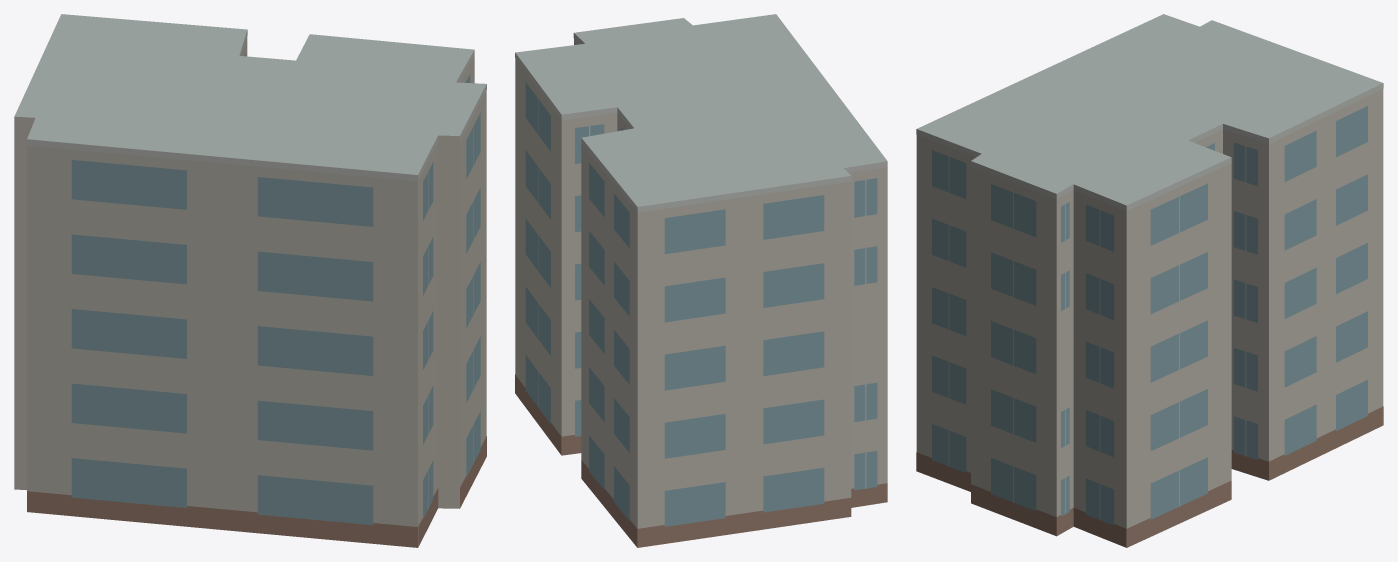
File: survey-upis-32992678.glb
3 renders of one model, left to right at view 1: azimuth 30°, elevation 25°; view 2: azimuth 150°, elevation 25°; view 3: azimuth 270°, elevation 25°, orthographic. The views are drawn at different scales.
Visible parts, largest first — view 1: survey-upis-32992678.tmp; view 2: survey-upis-32992678.tmp; view 3: survey-upis-32992678.tmp.
Part boxes in pixels (box(x1,y1,x2,y2)): survey-upis-32992678.tmp: box(14, 14, 486, 547); survey-upis-32992678.tmp: box(515, 14, 887, 547); survey-upis-32992678.tmp: box(916, 14, 1383, 547).
Bounding box in the file's own units: 17.89 × 14.9 × 18.42.
